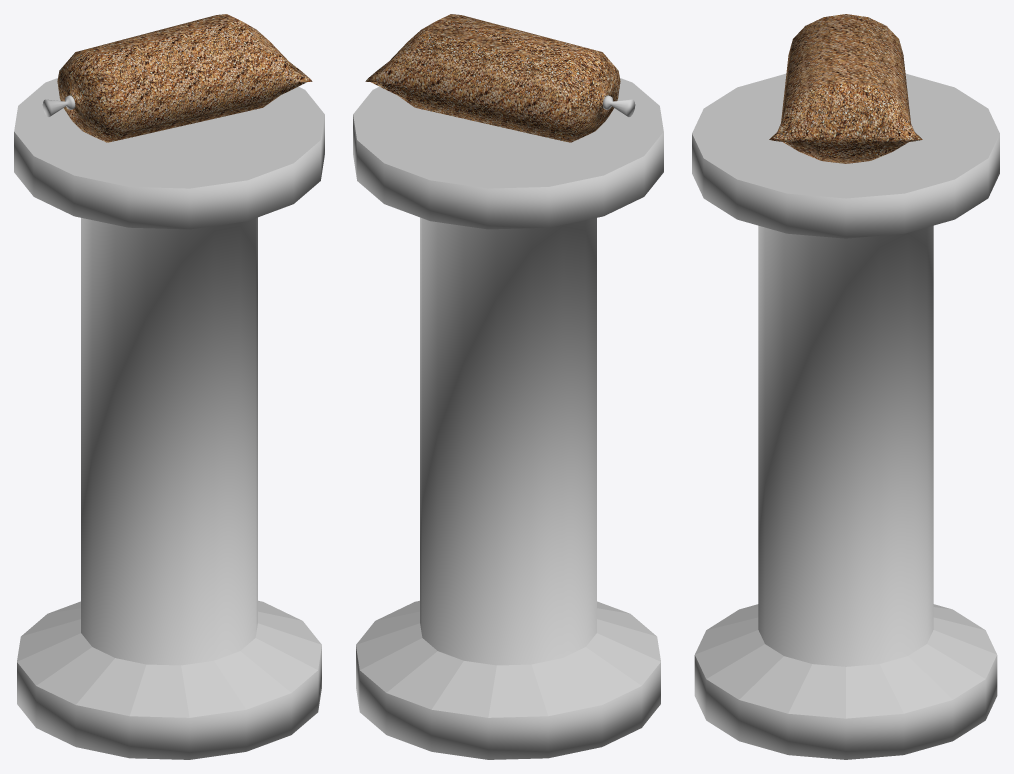
File: FarinhaDeGranola.dae
3 renders of one model, left to right at view 1: azimuth 30°, elevation 25°; view 2: azimuth 150°, elevation 25°; view 3: azimuth 270°, elevation 25°, orthographic.
Visible parts, largest first — view 1: Chop; view 2: Chop; view 3: Chop.
Boxes of the visible parts, x1=… form: Chop: x1=14, y1=14, x2=324, y2=759; Chop: x1=353, y1=14, x2=663, y2=759; Chop: x1=692, y1=14, x2=999, y2=759.
Bounding box in the file's own units: 2 × 2 × 4.63.
